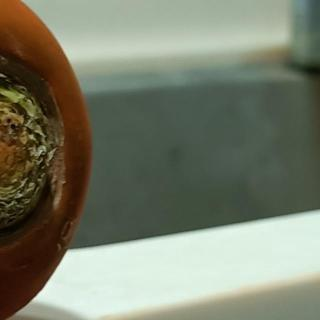carrot: (0, 0, 98, 320)
